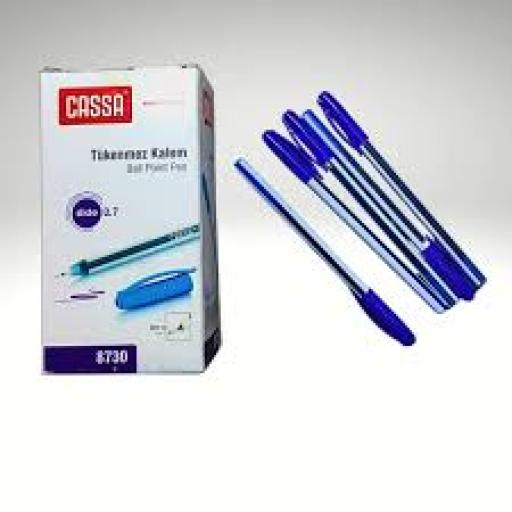tukenmez-kalem: (209, 69, 512, 348)
